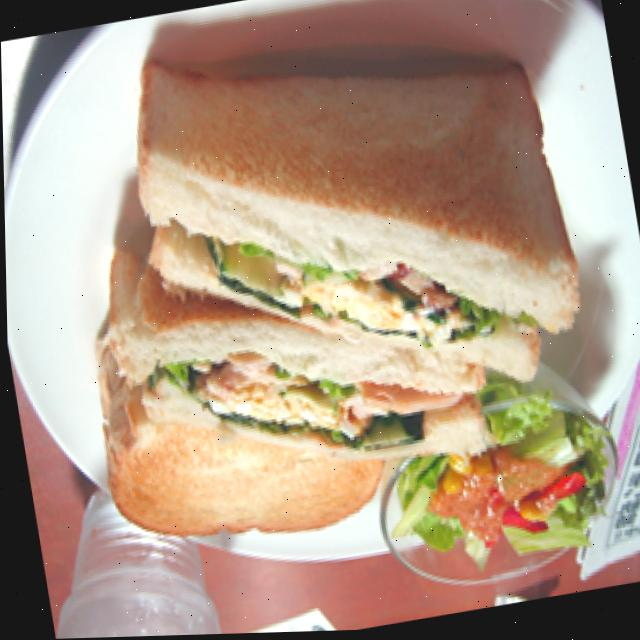三明治: (59, 22, 599, 534)
